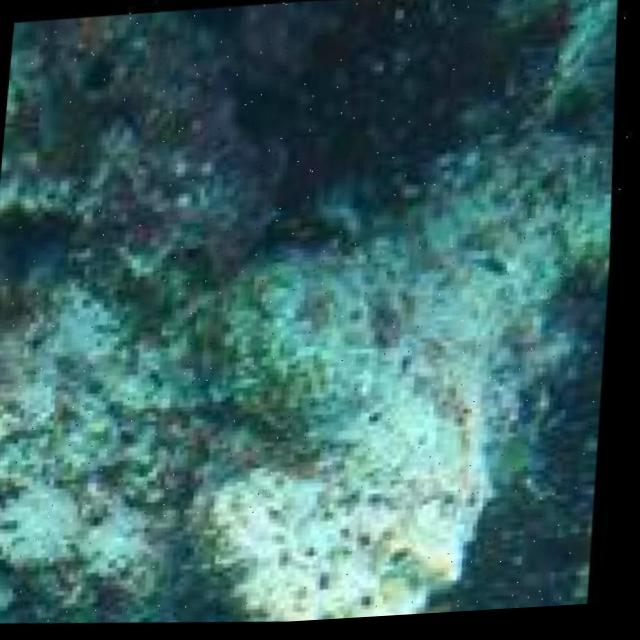Bleached Coral: (225, 115, 632, 629), (0, 253, 190, 611)
